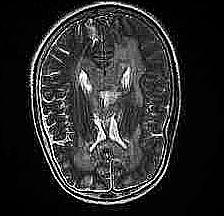Normal_Brain: (15, 1, 210, 214)
